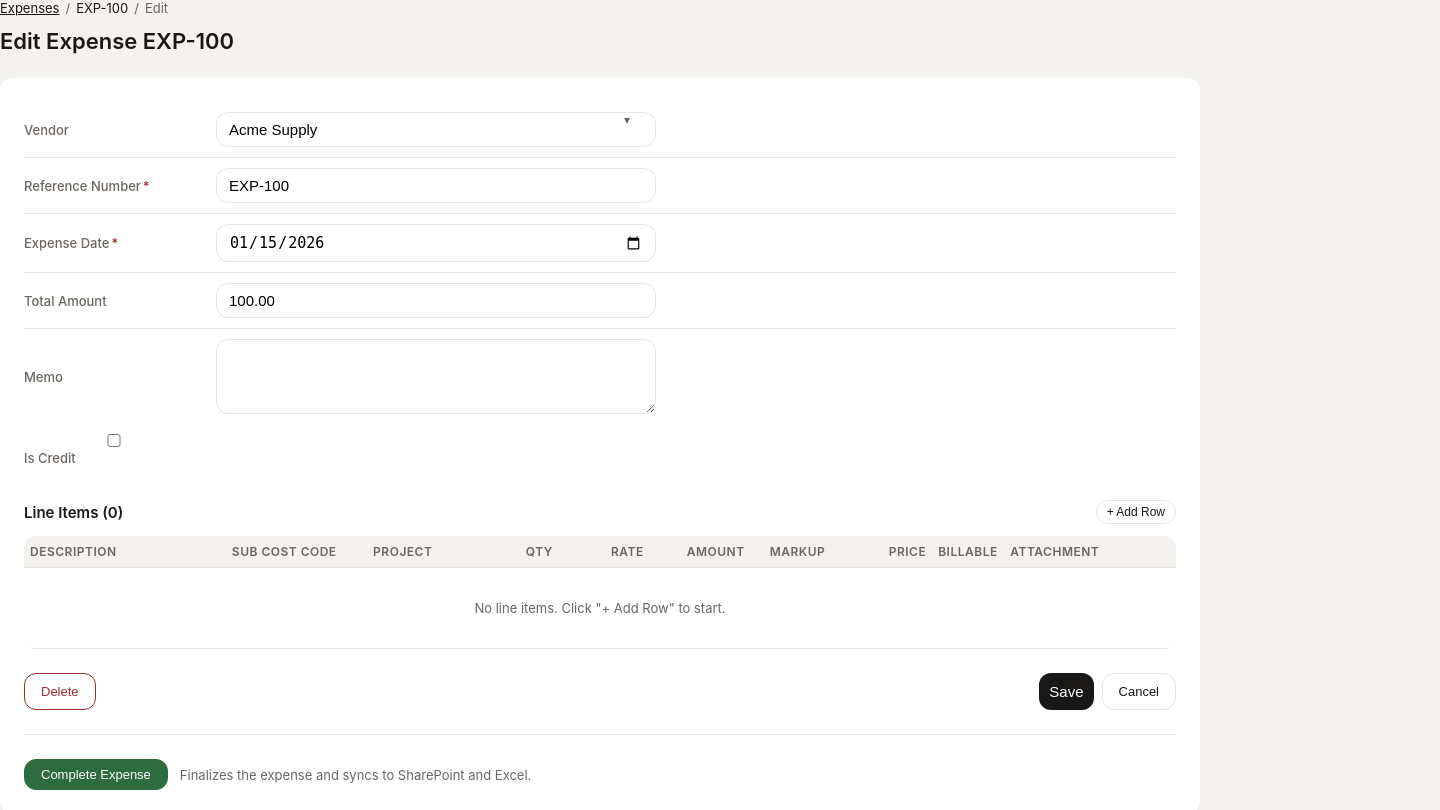
Test case: ExpenseEdit completion polling › settles only when is_draft flips false
Click the button "Complete Expense".
click(96, 774)  # box [24,759,168,790]
Wait 9000 ms
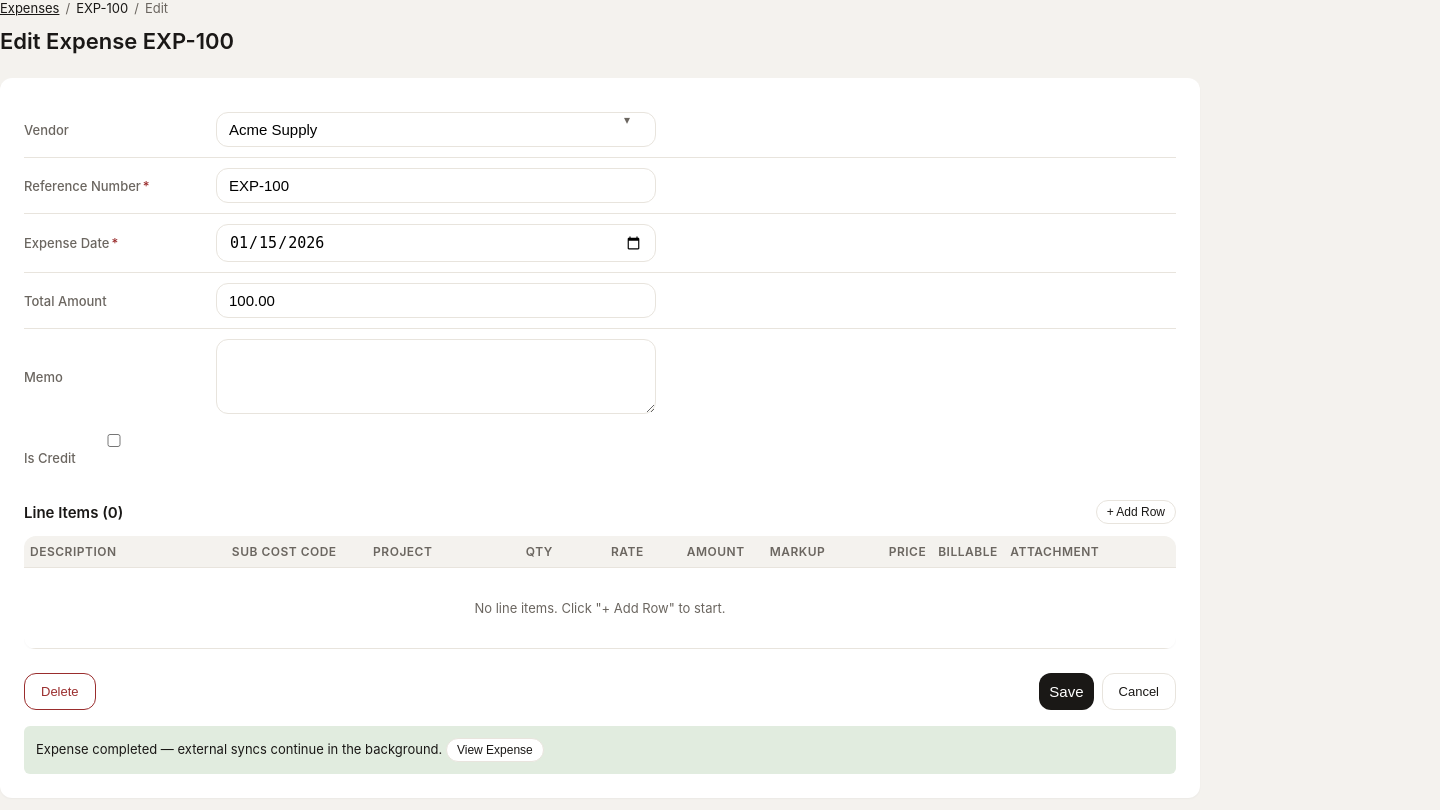
Check: the text "Expense completed — external syncs continue in the background." is shown, box [36,741,442,757]
